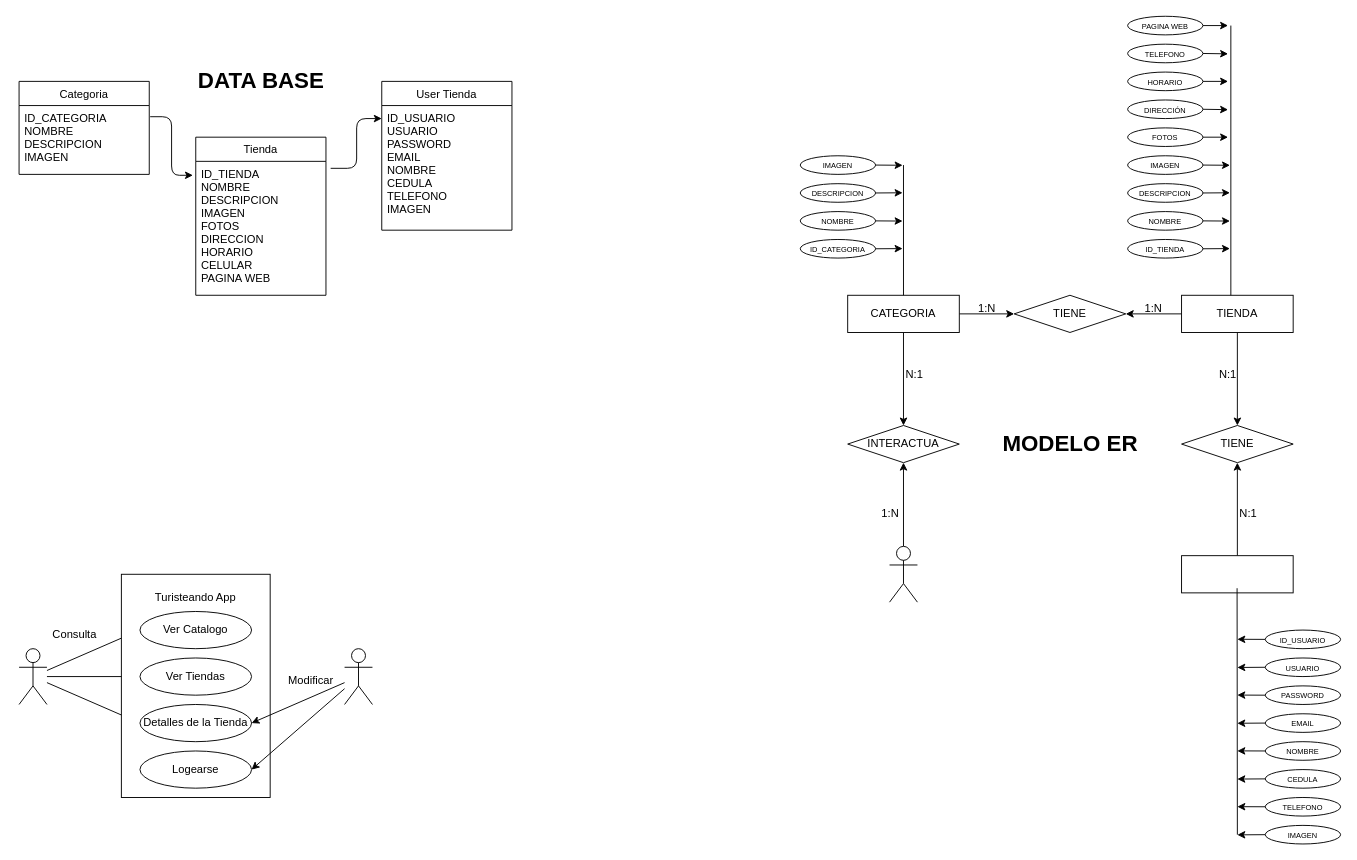
Some shapes in this 1357 by 860 pixel diagram are drawn without their labels. The shapes that lost their labels are listed below. From the top down, each one's centre as x and y in pixels, then its label:
At pixel 903 573: "Actor".
At pixel 1237 574: "USER_TIENDA".
At pixel 32 676: "Turista".
At pixel 358 676: "Dueño".
